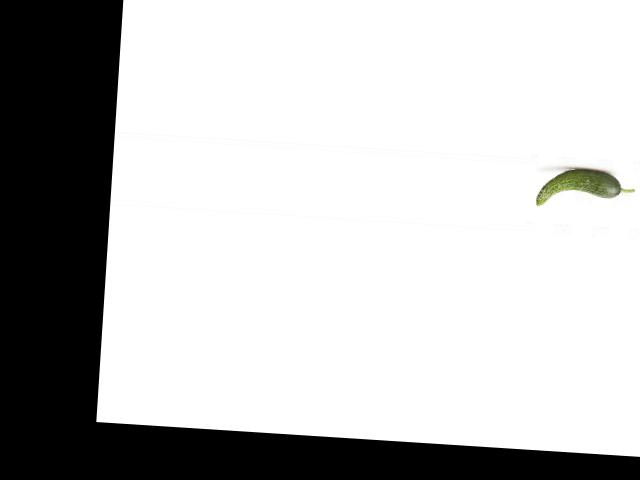cucumber: (536, 166, 636, 211)
